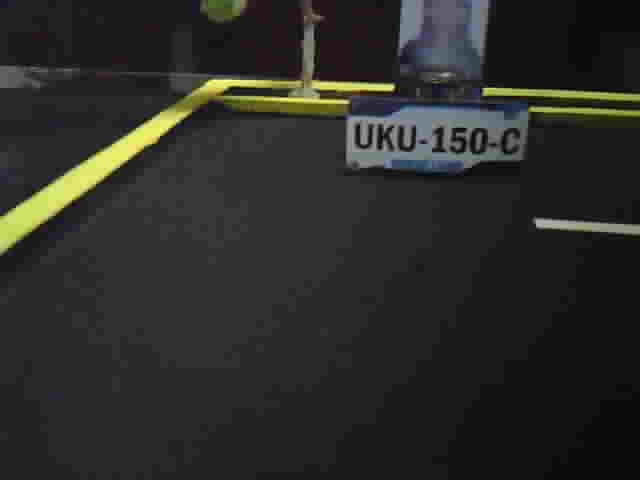PLACA: (343, 93, 531, 180)
ROSTRO: (400, 1, 483, 78)
